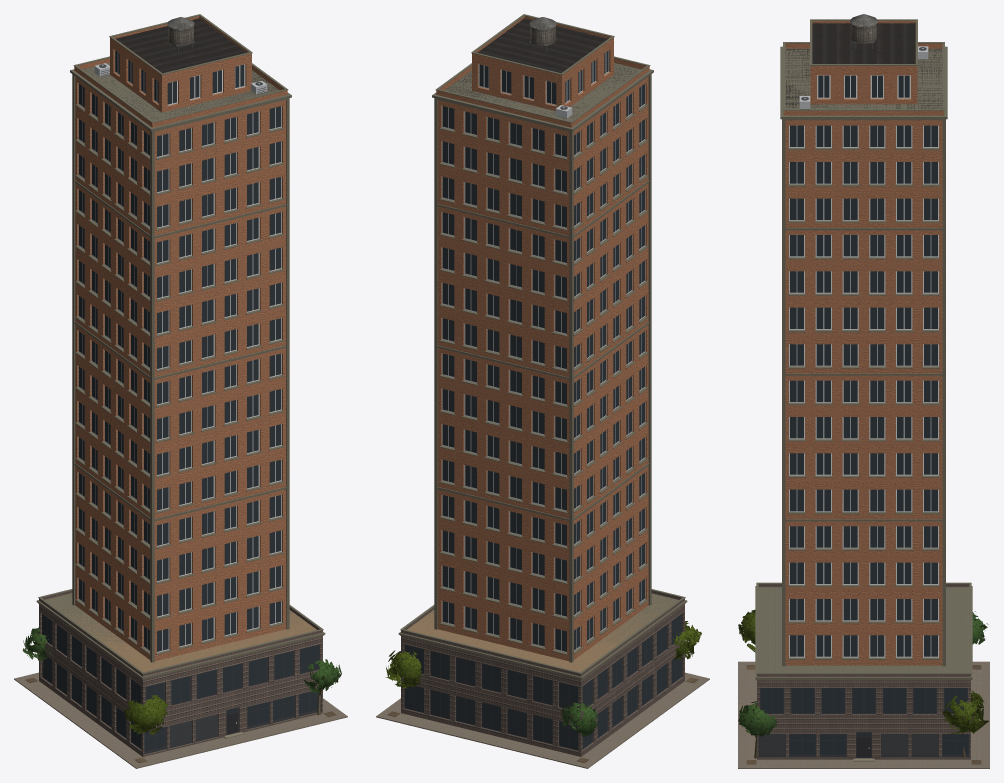
Rendered from tower_brick_point.glb.
3 views of the same model, side by side, from view 1: azimuth 30°, elevation 25°; view 2: azimuth 150°, elevation 25°; view 3: azimuth 270°, elevation 25° (orthographic). The views are drawn at different scales.
Visible parts, largest first — view 1: tower_brick_point_body, tower_brick_point_foliage; view 2: tower_brick_point_body, tower_brick_point_foliage; view 3: tower_brick_point_body, tower_brick_point_foliage.
Boxes of the visible parts, bbox=[...] form: tower_brick_point_body: bbox=[14, 14, 347, 768]; tower_brick_point_foliage: bbox=[22, 627, 341, 734]; tower_brick_point_body: bbox=[376, 14, 709, 768]; tower_brick_point_foliage: bbox=[385, 621, 701, 736]; tower_brick_point_body: bbox=[738, 14, 989, 768]; tower_brick_point_foliage: bbox=[738, 609, 988, 736].
Bounding box in the file's own units: 0.94 × 2.89 × 0.94.
Materials: 24 (15 with a texture image).
